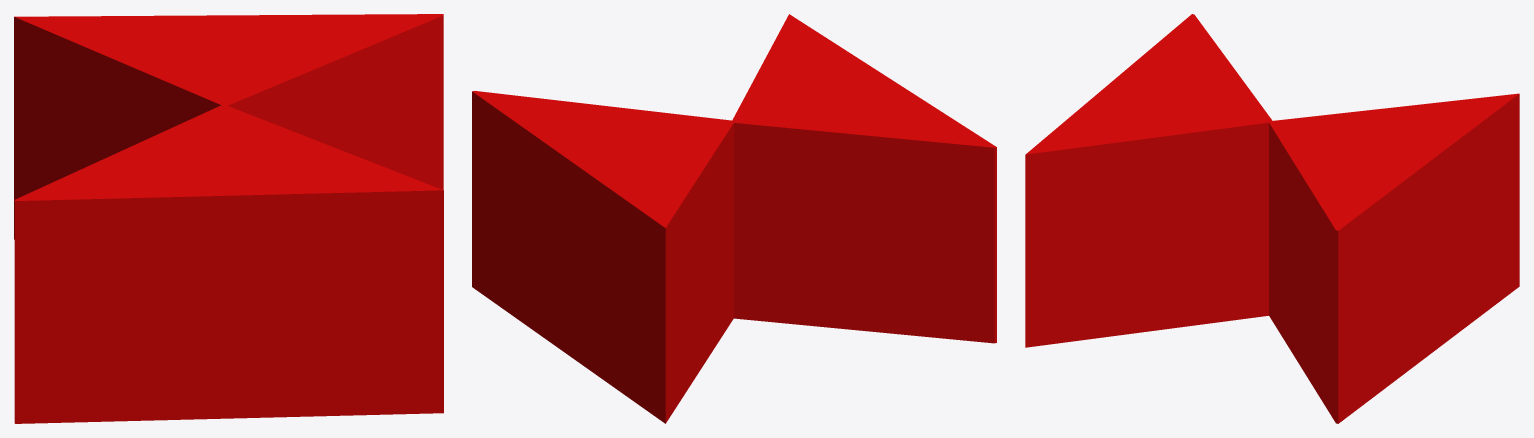
File: Rune1NoStone.fbx
3 renders of one model, left to right at view 1: azimuth 30°, elevation 25°; view 2: azimuth 150°, elevation 25°; view 3: azimuth 270°, elevation 25°, orthographic. The views are drawn at different scales.
Parts seen in each view (by area): view 1: Cube.002, Cube.001; view 2: Cube.002, Cube.001; view 3: Cube.001, Cube.002.
Boxes of the visible parts, x1=… form: Cube.002: x1=14, y1=105, x2=443, y2=423; Cube.001: x1=14, y1=14, x2=443, y2=239; Cube.002: x1=732, y1=14, x2=996, y2=343; Cube.001: x1=472, y1=91, x2=734, y2=423; Cube.001: x1=1268, y1=93, x2=1519, y2=423; Cube.002: x1=1025, y1=14, x2=1272, y2=347.
Bounding box in the file's own units: 119 × 49.26 × 114.
